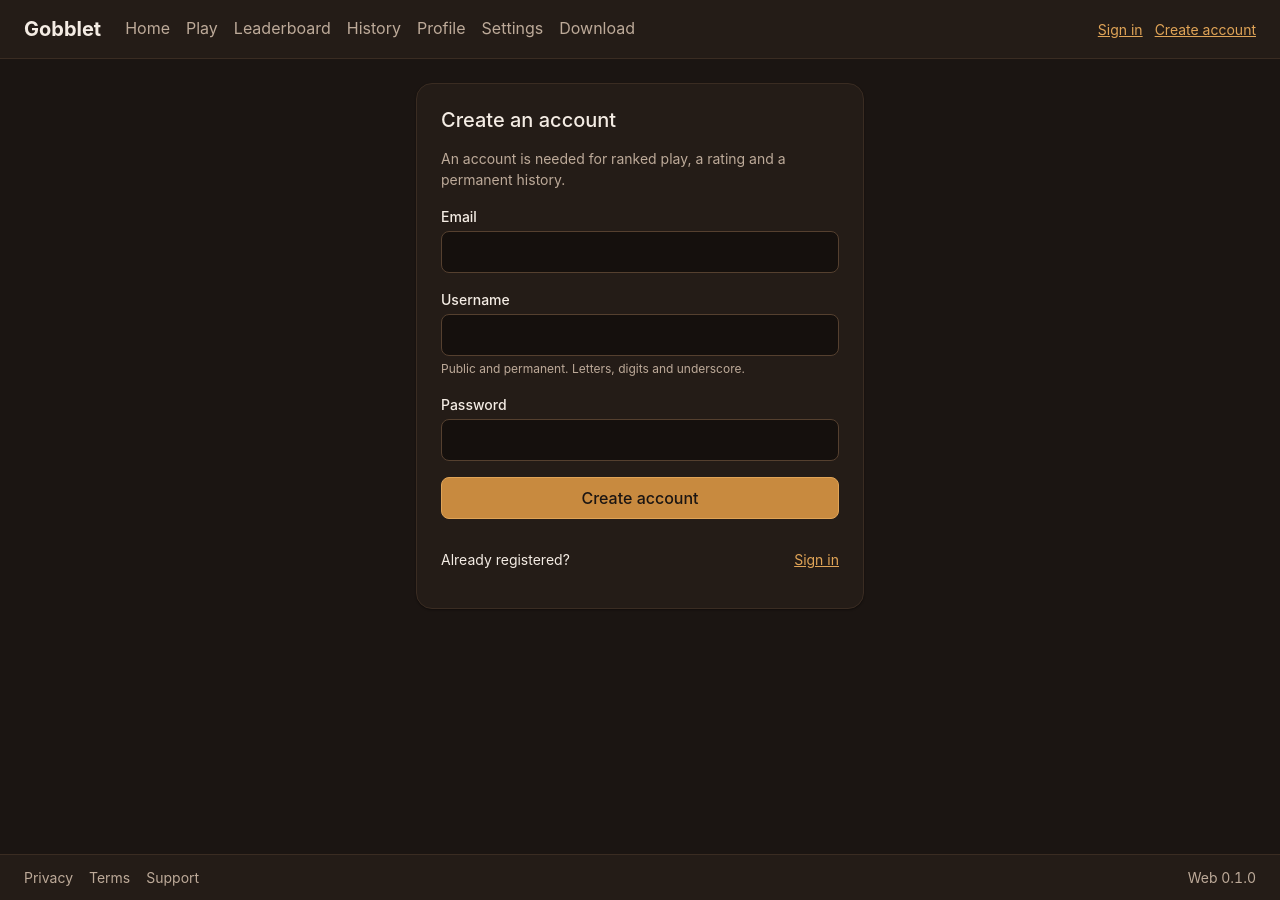
Scenario: registration › validates each field with the shared rules before sending anything
This screenshot has width=1280, height=900.
Type "nope" into the field labelled "Email" at (640, 252), box x1=441 y1=231 x2=839 y2=273
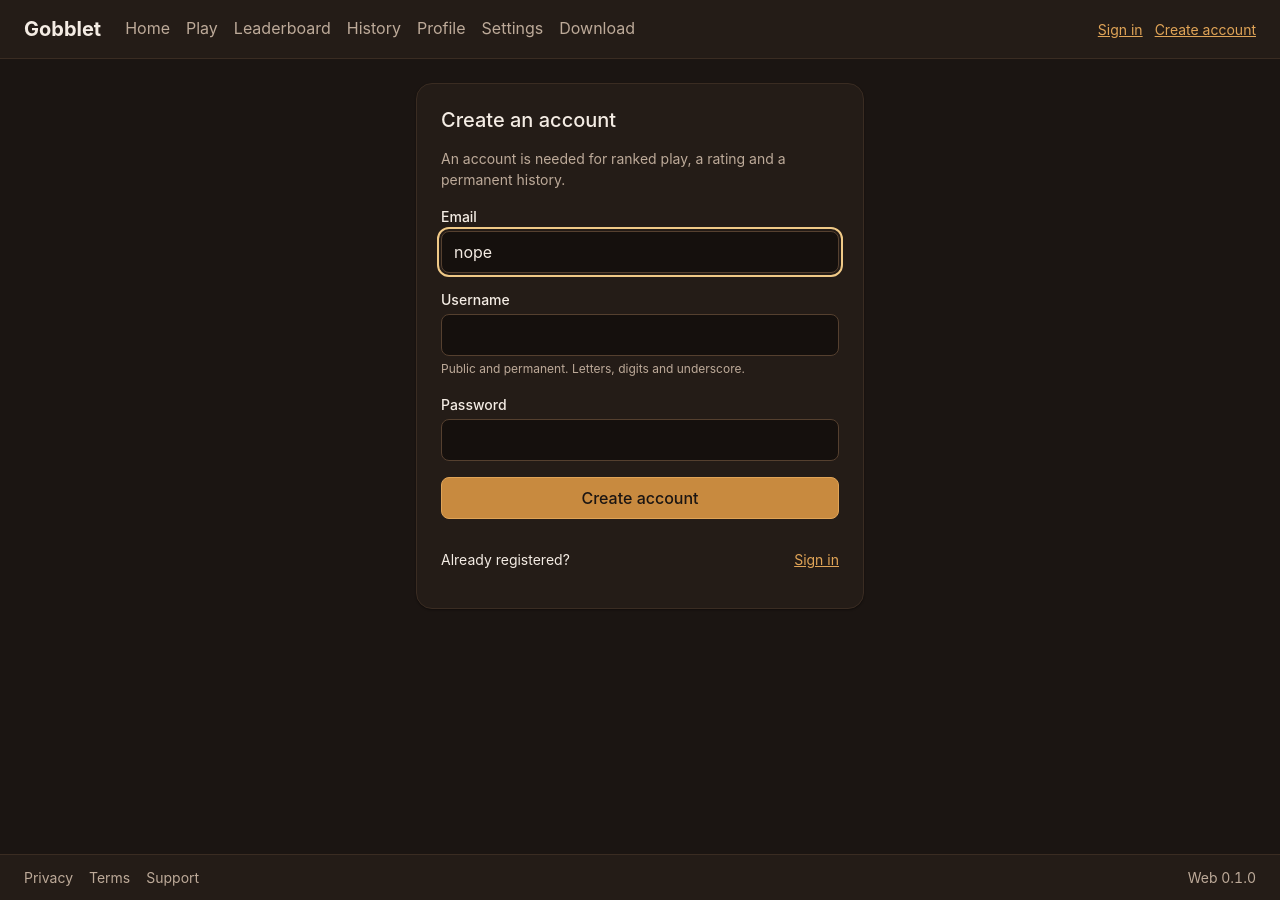
Type "1bad" into the field labelled "Username" at (640, 335), box x1=441 y1=314 x2=839 y2=356
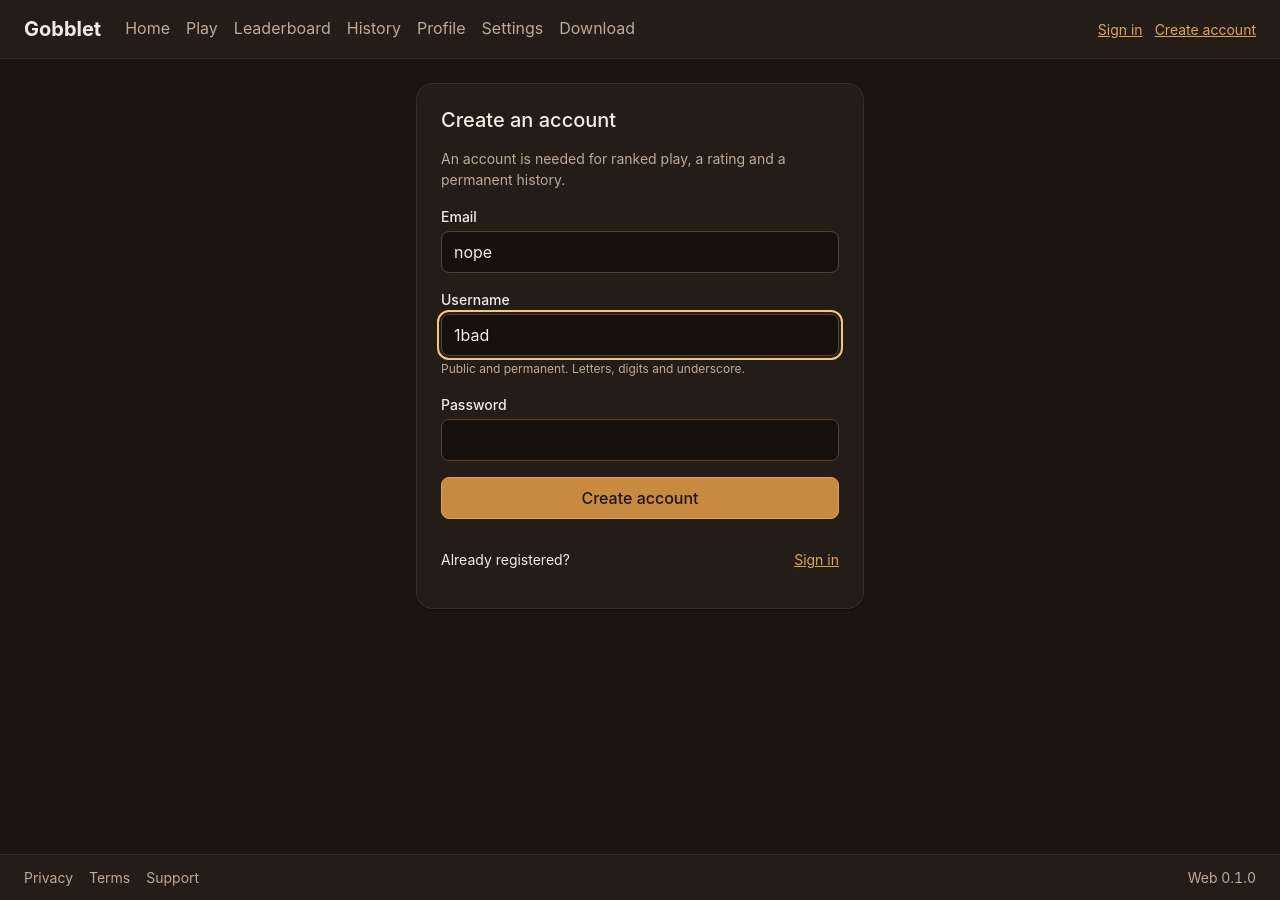
Type "tiny" into the password field labelled "Password" at (640, 440), box x1=441 y1=419 x2=839 y2=461
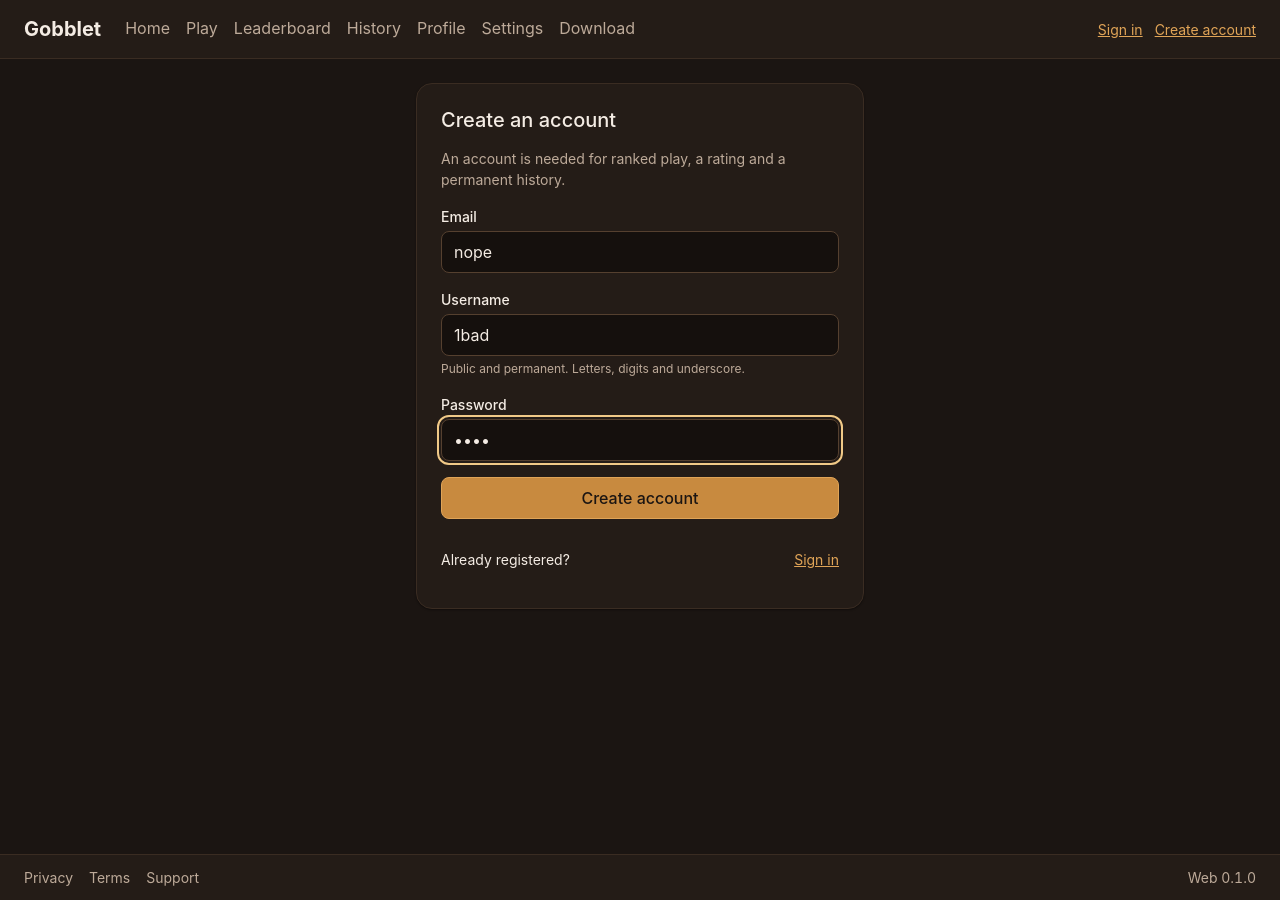
Click the button with test id "register-submit" at (640, 498), box x1=441 y1=477 x2=839 y2=519
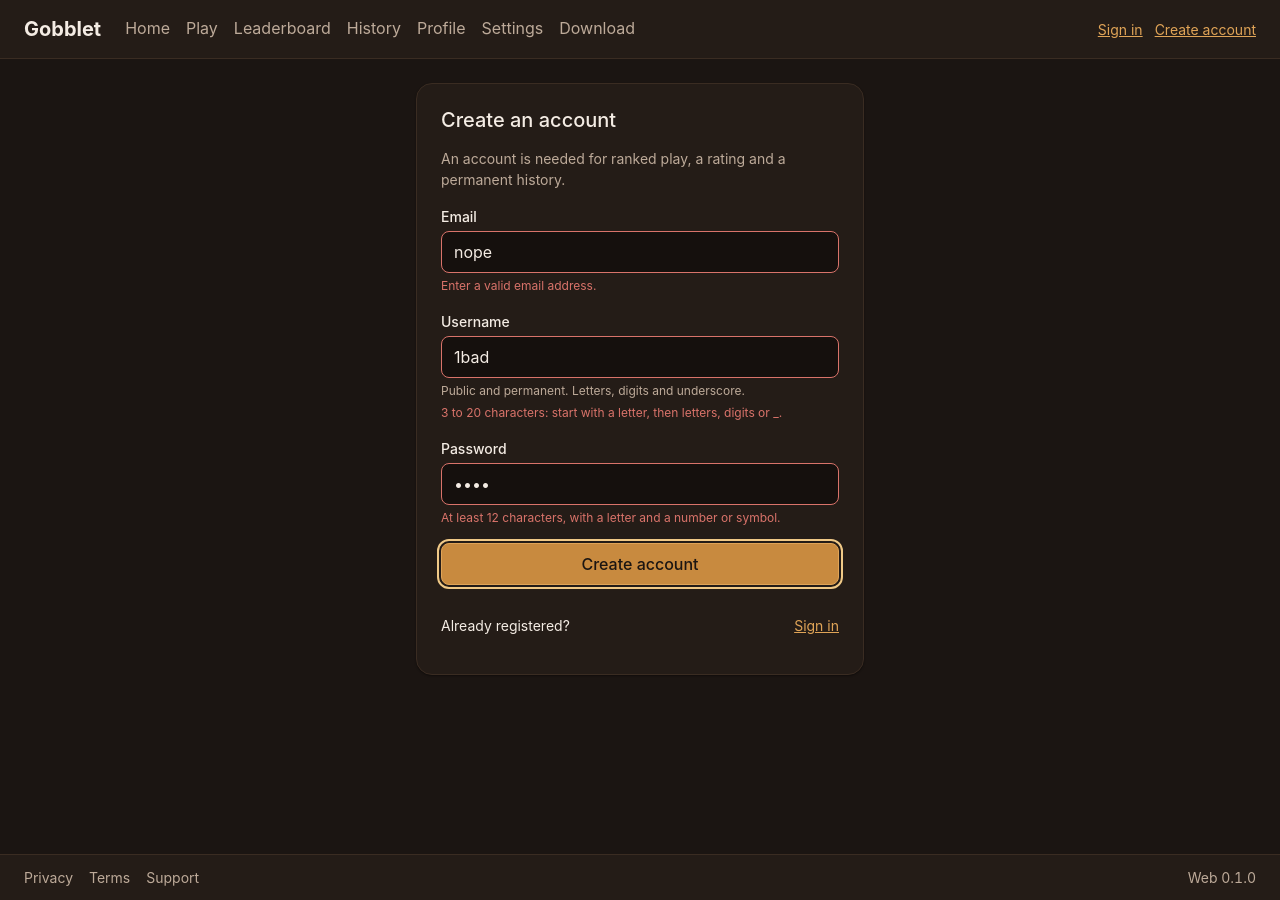
Expected: the text "Enter a valid email address." is shown, x1=441 y1=278 x2=596 y2=293
Expected: the text "start with a letter" is shown, x1=441 y1=405 x2=782 y2=420
Expected: the text "At least 12 characters" is shown, x1=441 y1=510 x2=780 y2=525
